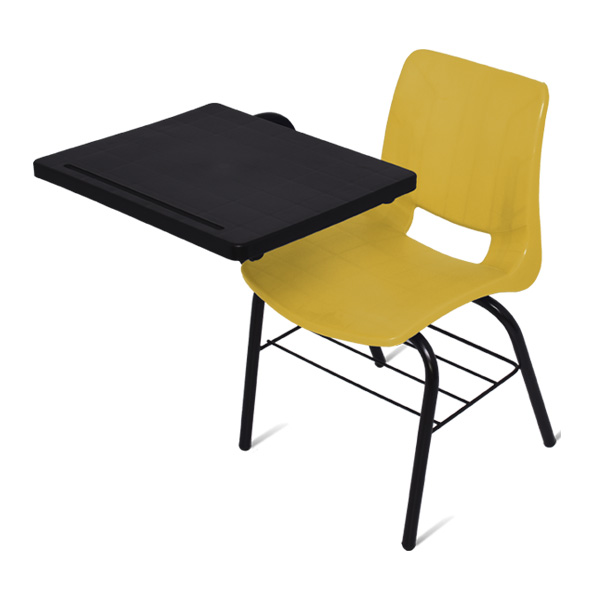m01: (33, 48, 557, 553)
